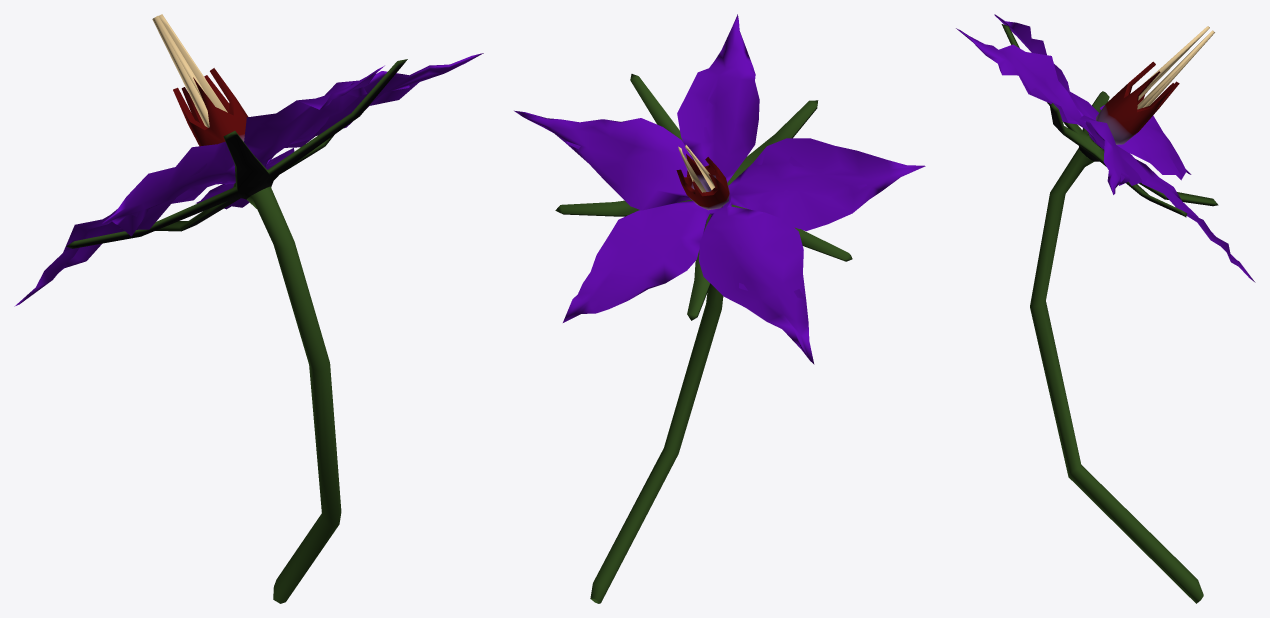
File: Flor.fbx
The picture shows the model from 3 angles, left to right: view 1: azimuth 30°, elevation 25°; view 2: azimuth 150°, elevation 25°; view 3: azimuth 270°, elevation 25°; orthographic projection. The views are drawn at different scales.
Visible parts, largest first — view 1: petals closed.001; view 2: petals closed.001; view 3: petals closed.001.
Part boxes in pixels (bbox=[...]): petals closed.001: bbox=[14, 14, 483, 603]; petals closed.001: bbox=[514, 14, 925, 603]; petals closed.001: bbox=[956, 14, 1255, 603].
Size of the model in its own units: 44.92 by 61.75 by 30.04.
